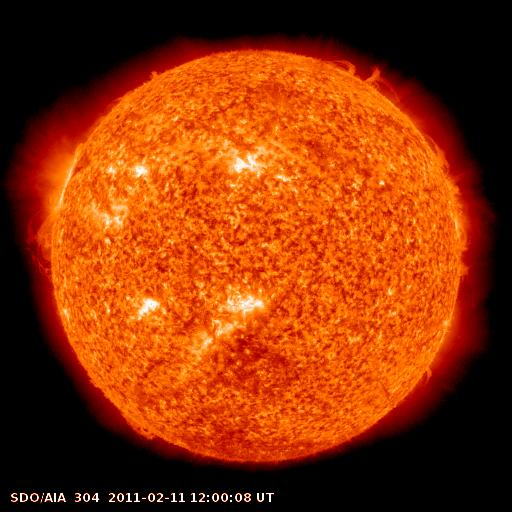prominence: (321, 45, 412, 107), (9, 208, 62, 289), (410, 121, 460, 175), (438, 235, 492, 284), (116, 400, 162, 450), (409, 350, 444, 396)
